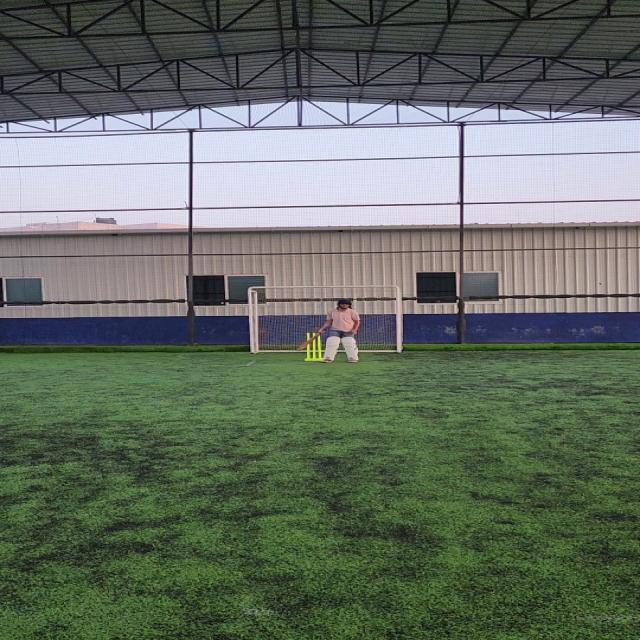stump: (302, 332, 322, 361)
